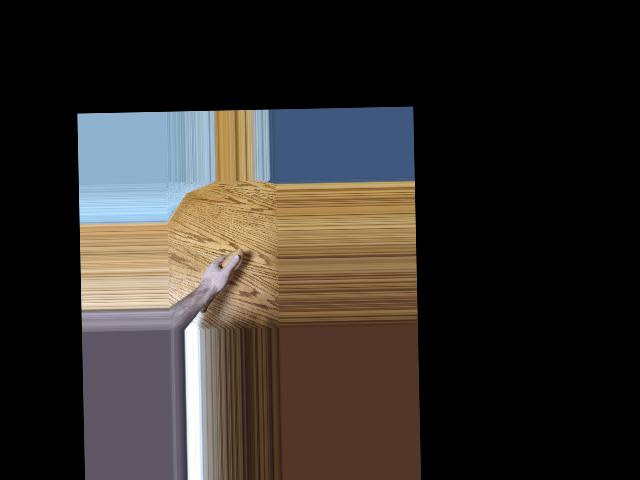sweet_potato: (198, 248, 245, 314)
